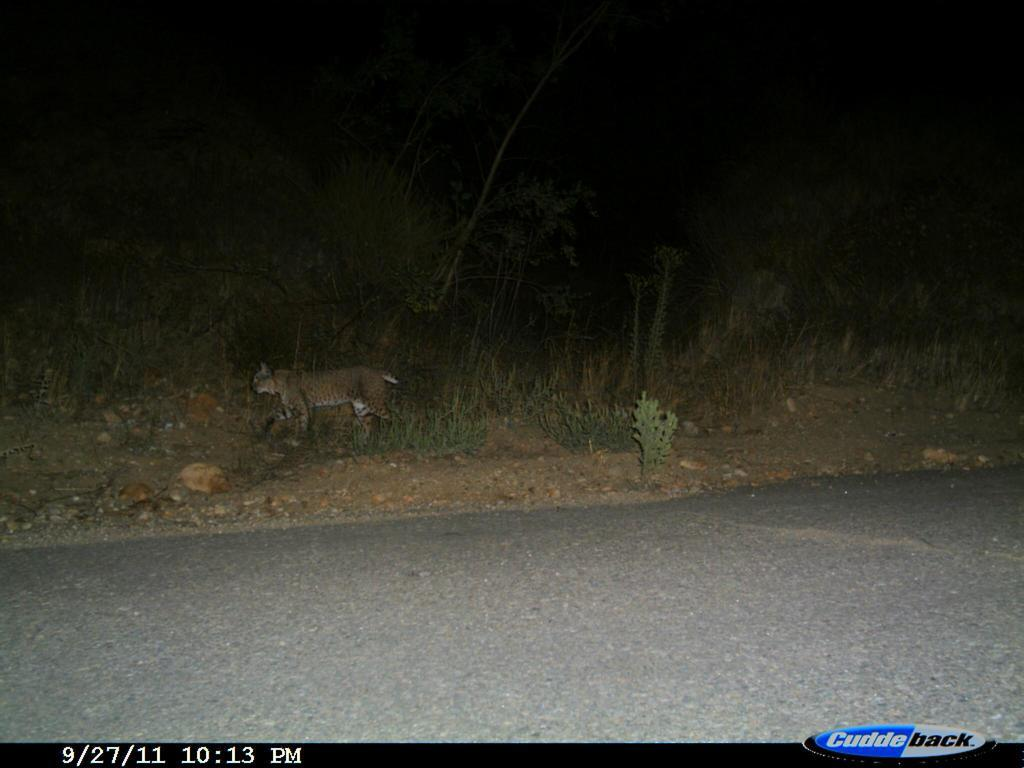bobcat: (245, 356, 405, 442)
